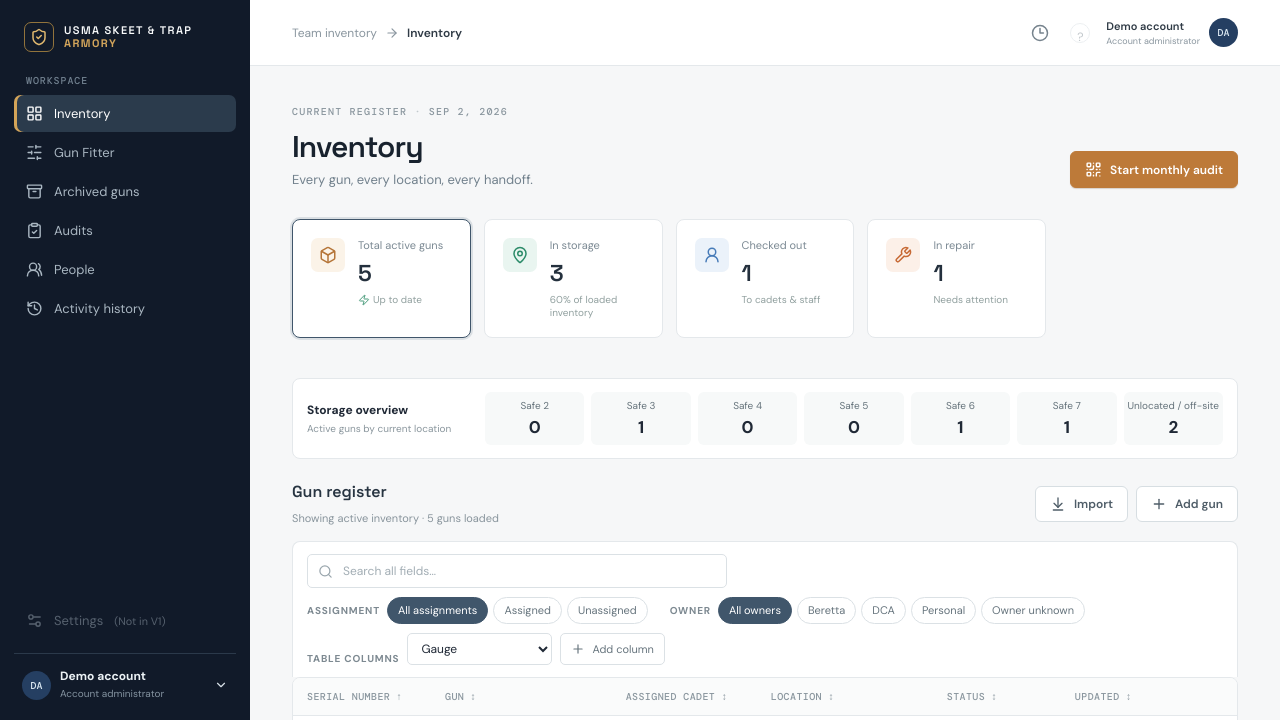
Test: armory workflow › adds and removes optional table columns
The image size is (1280, 720).
Select "Gauge" in the dropdown named "Additional table column" at (480, 649), box 407,633 -> 552,665
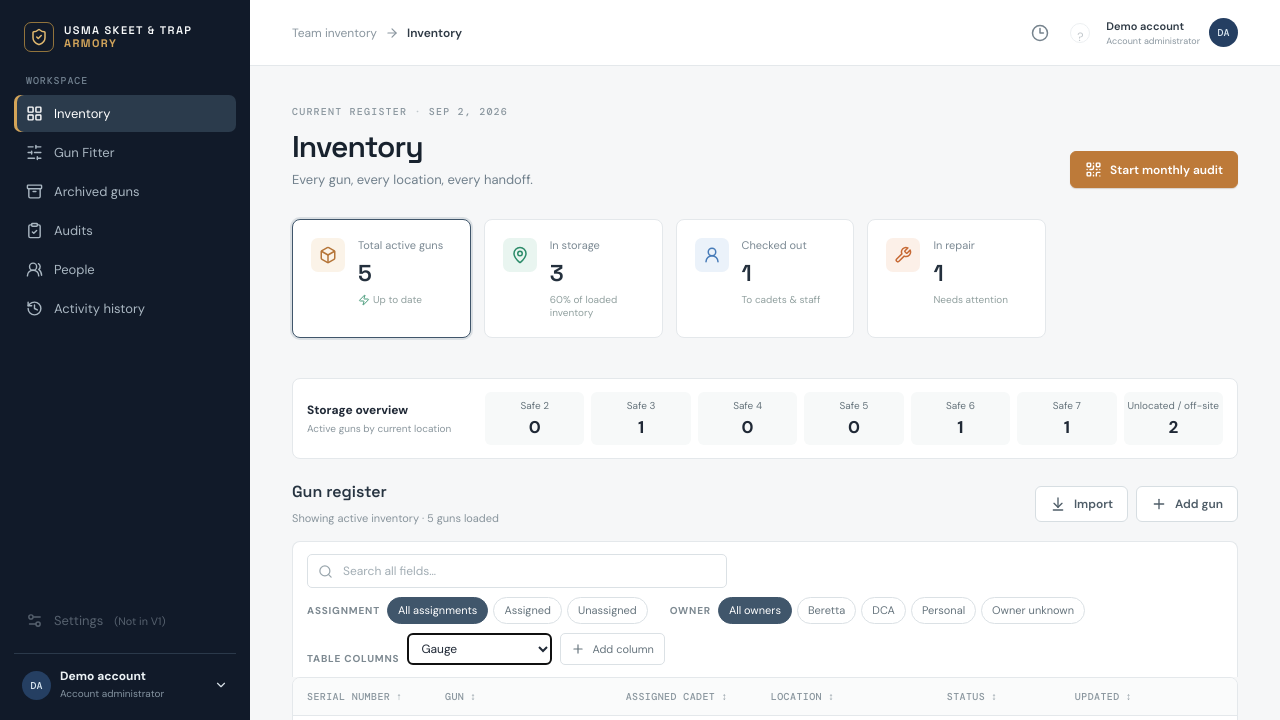
Click the button "Add column" at (613, 649), box 560,633 -> 665,665
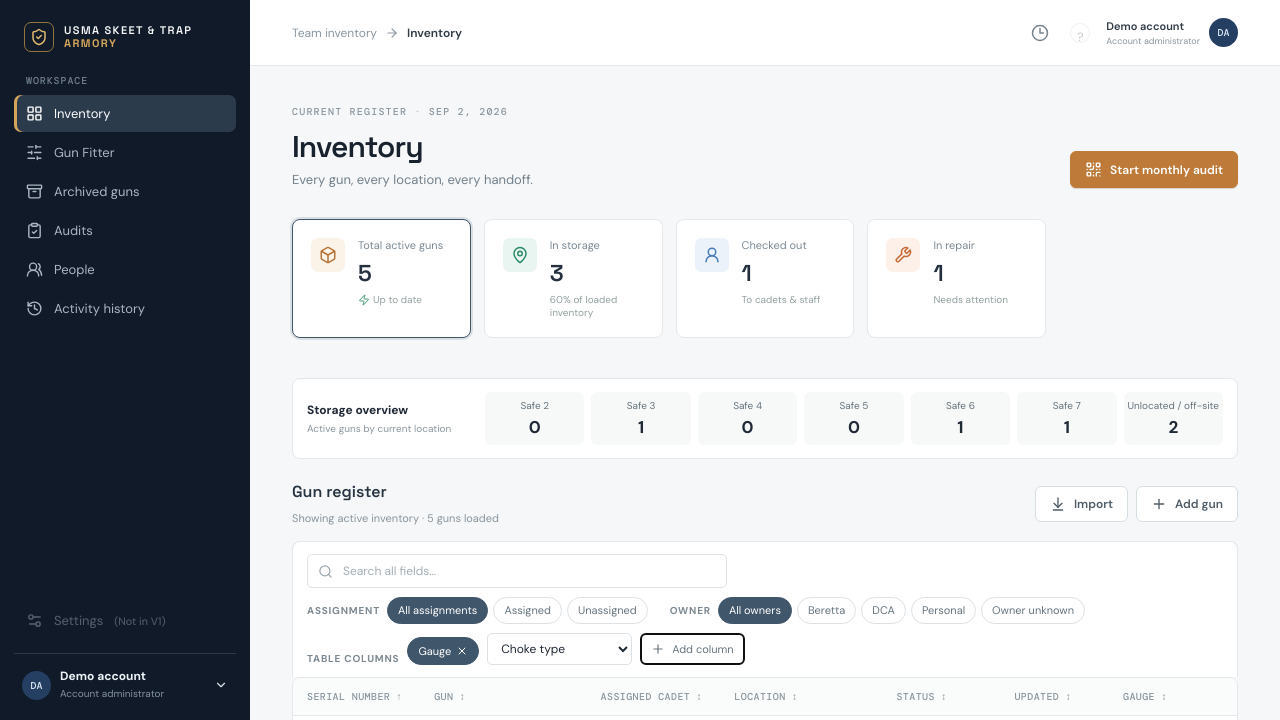
Check: the column heading "Gauge" is shown, box 1109,678 -> 1183,716
Click the button with aria-label "Hide Gauge column" at (443, 651), box 407,637 -> 479,665
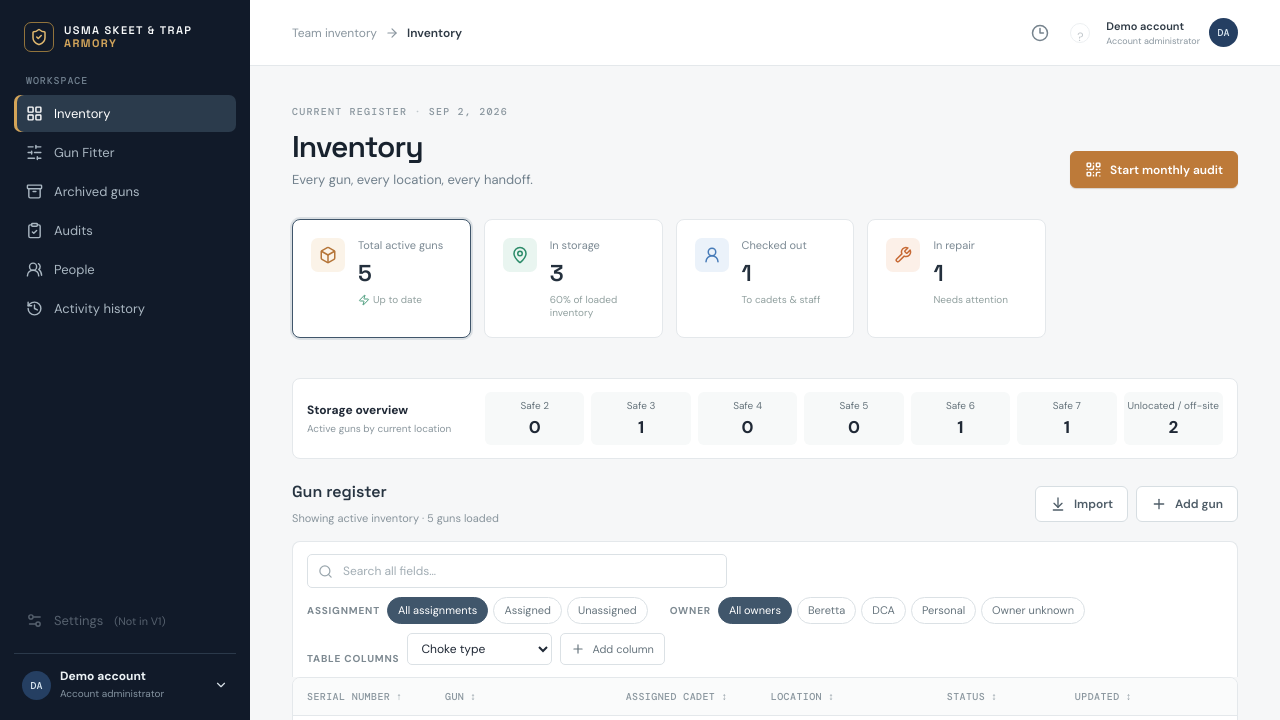
Check: the button "Gauge" is gone
